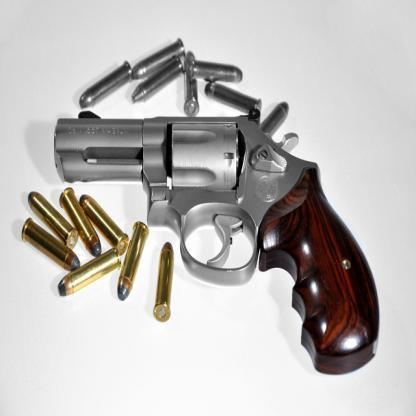Pistol: (51, 111, 387, 382)
